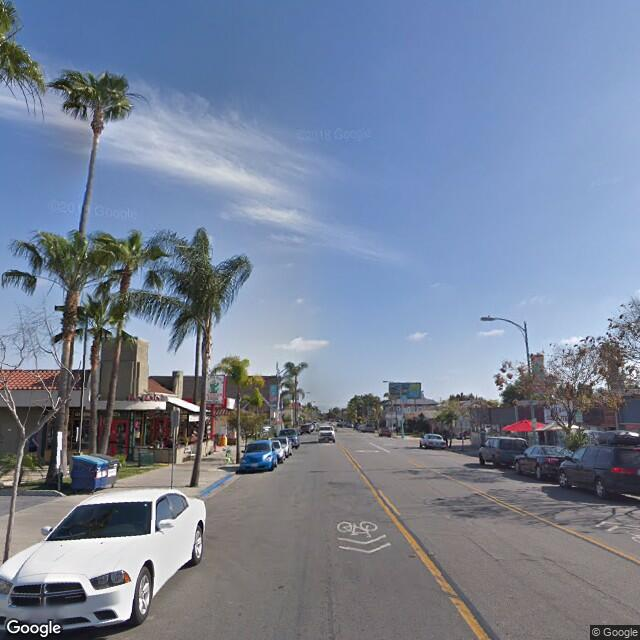light: (480, 312, 495, 322)
road line: (452, 586, 518, 639), (413, 530, 463, 578), (477, 487, 519, 518), (373, 480, 410, 514)
